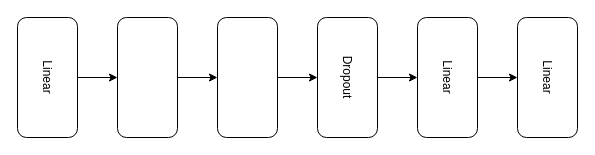
Image size: 595x155. Some labels were removed from this diagram. The centre of each missing label's shape, as x and y in pixels:
Activation: (147,77)
Normalization: (247,77)
